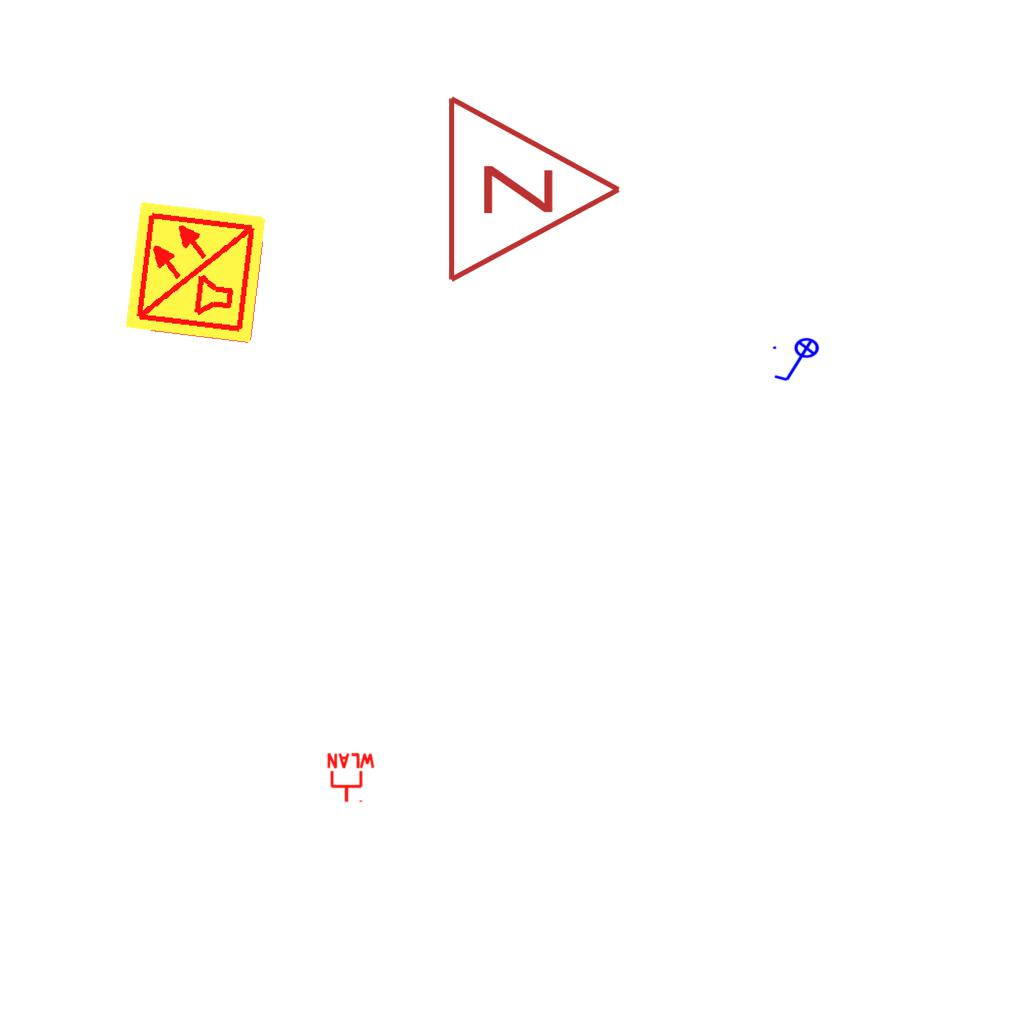Ausschalter_beleuchtet: (770, 337, 826, 385)
OKW_Multisensormelder_(Kombination_optischer_Rauch-Kahlenmonoxid_Waerme-Melder): (122, 198, 270, 346)
WLAN: (325, 752, 377, 804)
Zimmersignalleuchte: (434, 89, 634, 285)
